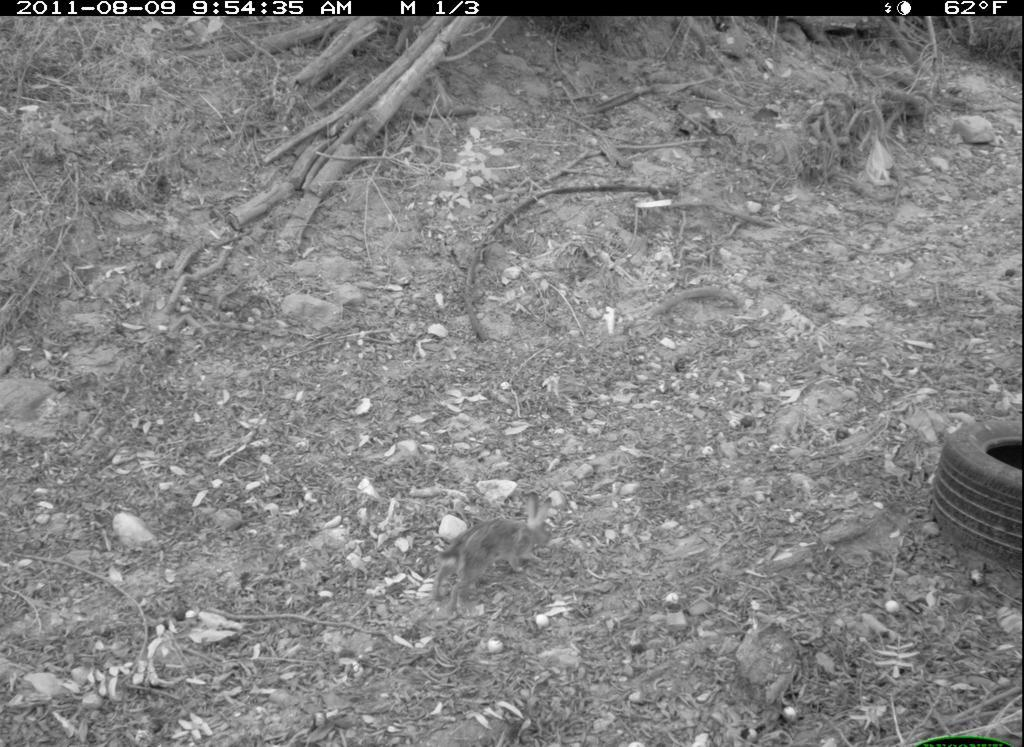rabbit: (429, 489, 556, 619)
